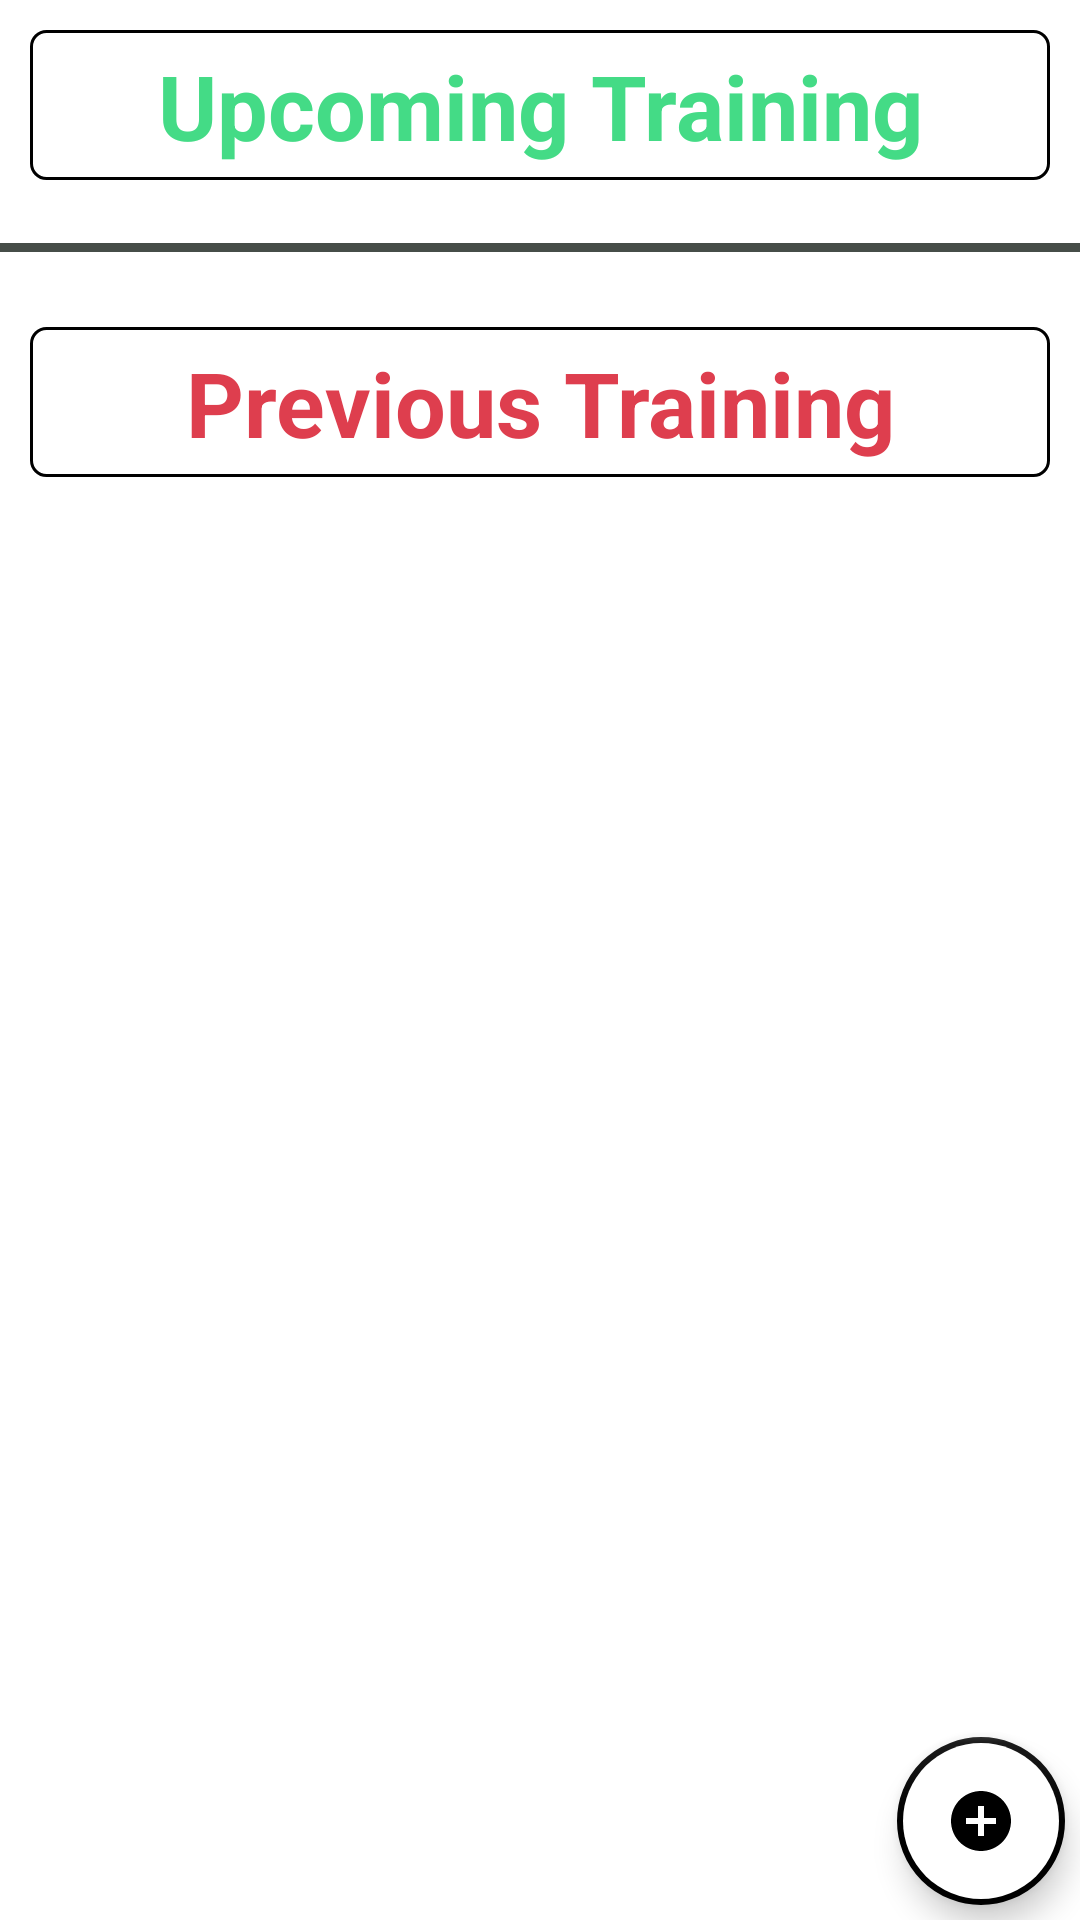

Icon click points for this 1080w x 1920h phone screenshot, format (x=x, y=y):
floating action button: (x=981, y=1821)
